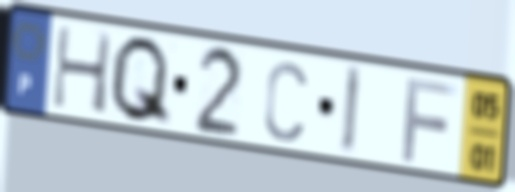2: (191, 43, 246, 143)
C: (261, 56, 310, 145)
F: (398, 73, 461, 166)
H: (49, 22, 116, 118)
I: (338, 62, 365, 159)
Q: (105, 32, 174, 131)
